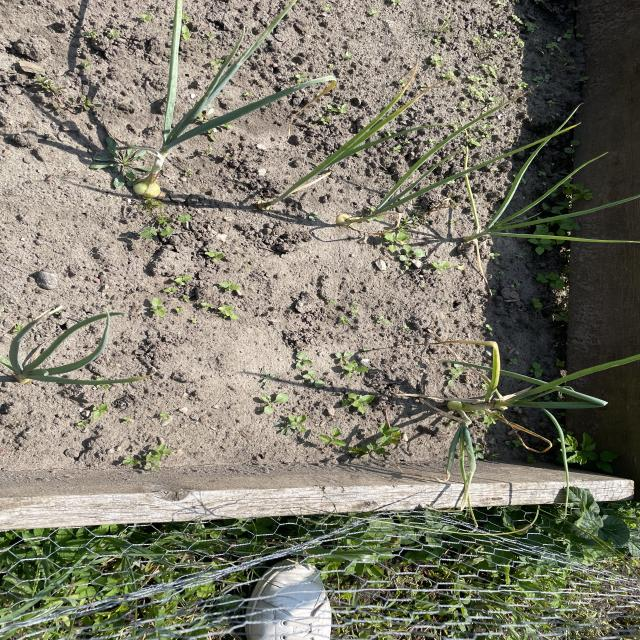Onion: (140, 9, 292, 194), (424, 351, 606, 482), (328, 111, 516, 229), (454, 136, 640, 253), (257, 84, 412, 210), (1, 321, 147, 386)
weed: (143, 282, 251, 326), (380, 226, 451, 278), (318, 422, 408, 462), (122, 208, 200, 252), (89, 138, 150, 188), (122, 434, 186, 479), (334, 345, 372, 386), (292, 348, 322, 390), (257, 393, 295, 418)
